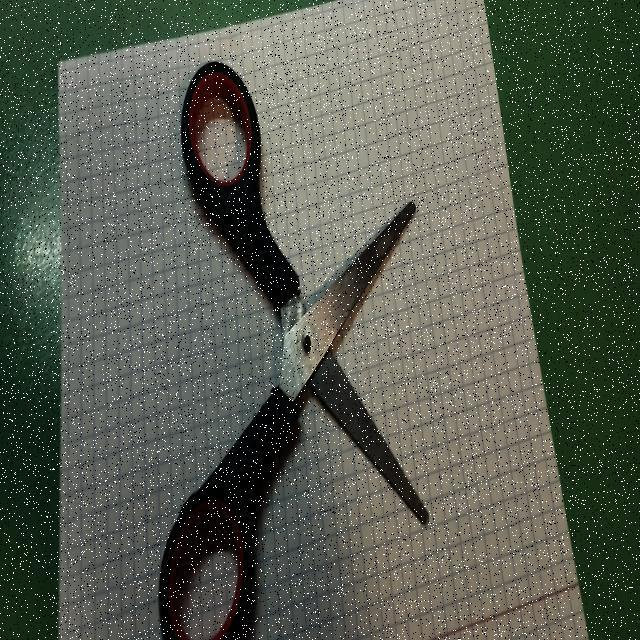scissors: (154, 49, 436, 640)
